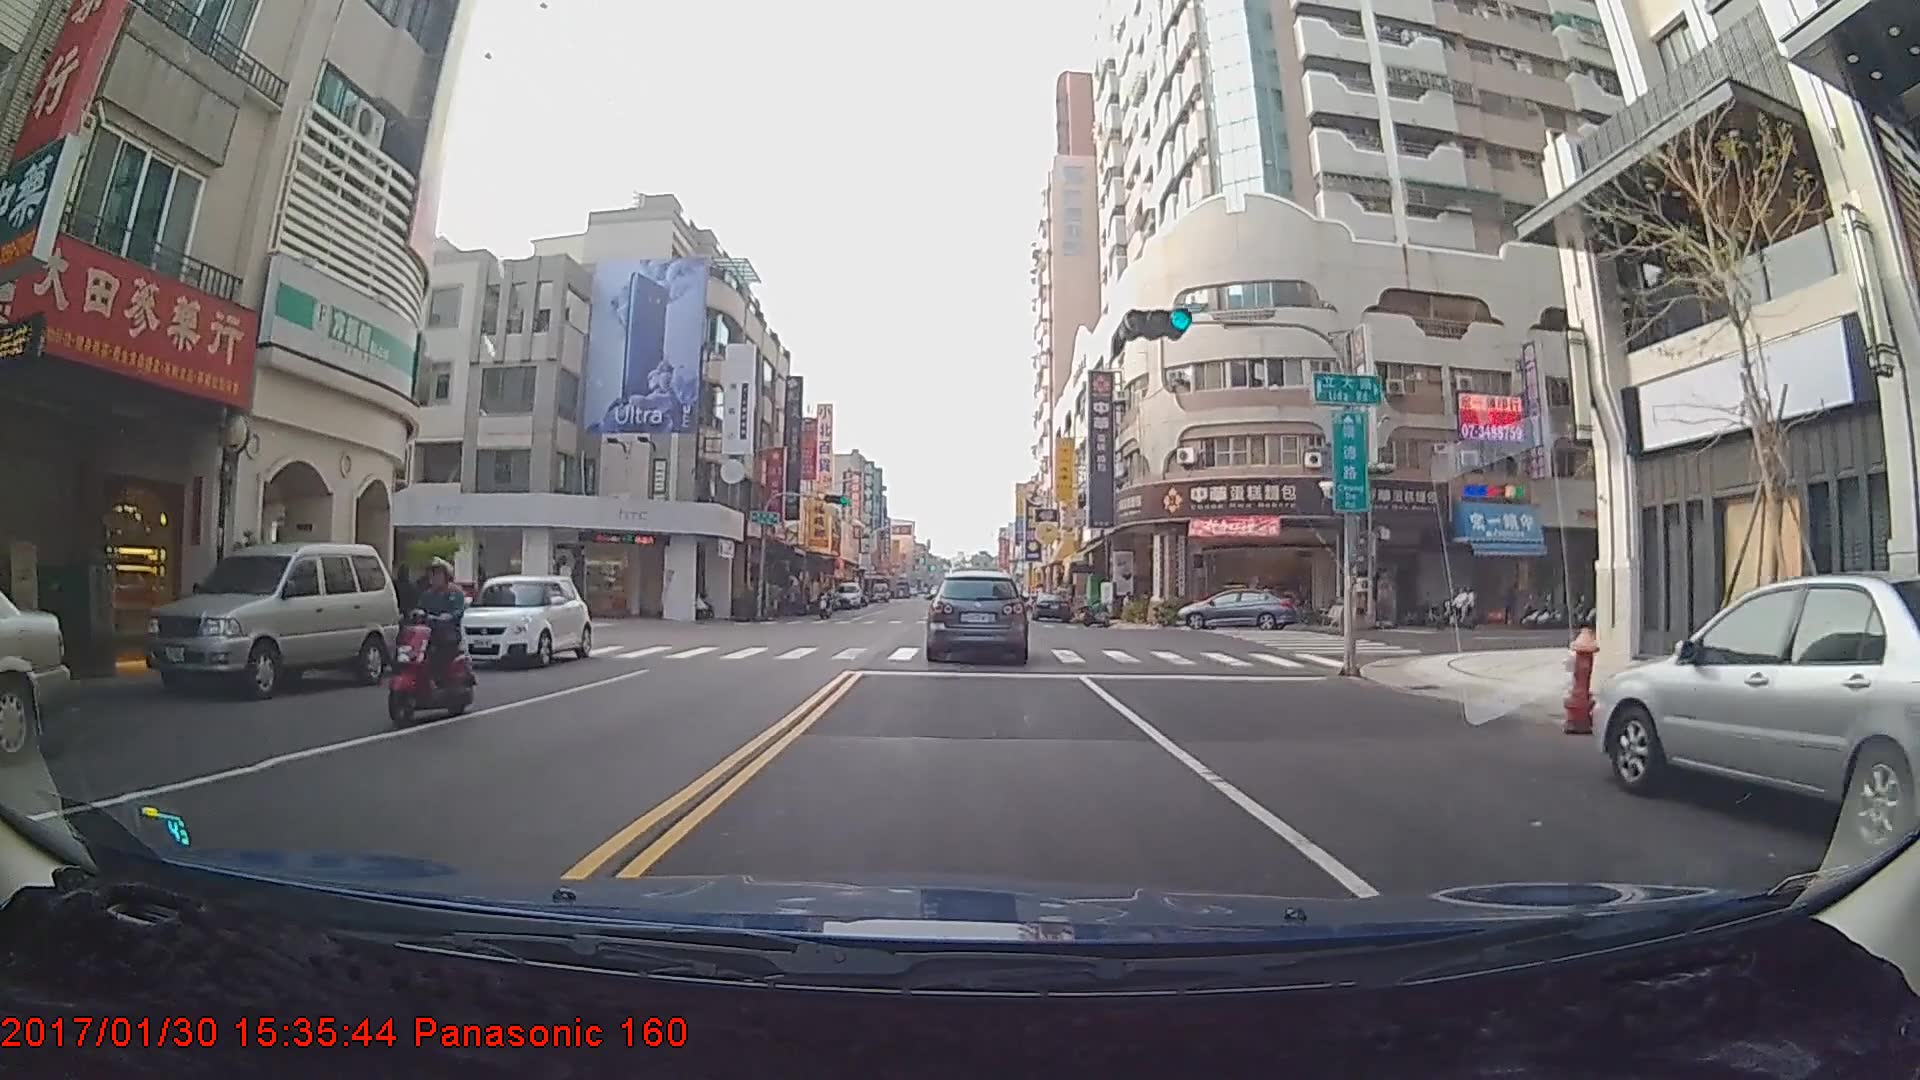rider: (385, 560, 482, 730), (1427, 582, 1476, 631), (811, 589, 839, 626)
vehicle: (1590, 570, 1919, 864), (143, 540, 402, 697), (449, 574, 592, 668), (927, 571, 1028, 661), (1179, 584, 1299, 632), (1032, 589, 1071, 620), (834, 580, 861, 609)
